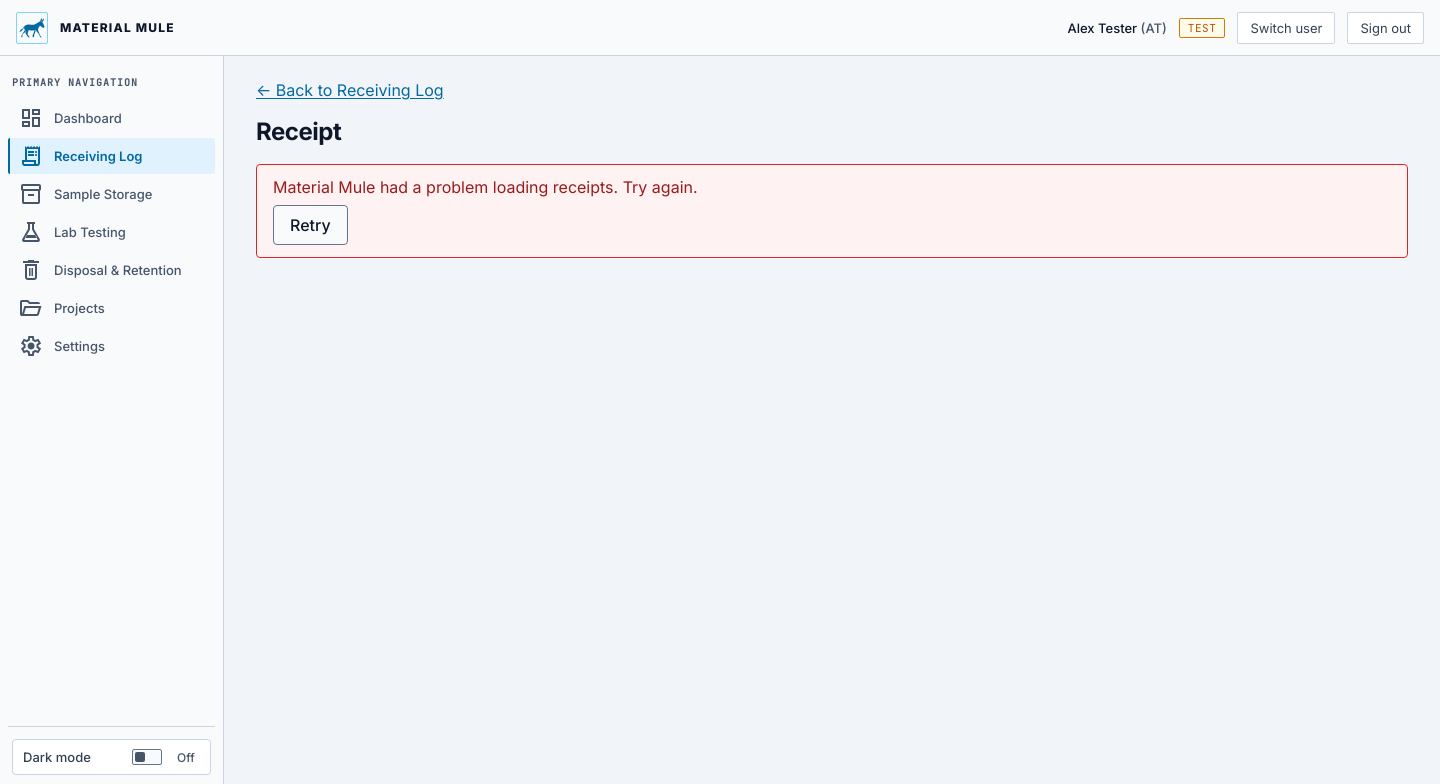
Receipt detail (MM-T51) › a server error offers Retry
Check: the message "Material Mule had a problem loading receipts. Try again. Retry" is shown, box [256,164,1408,258]
Click the button "Retry".
click(310, 225)  # box [273,205,348,245]
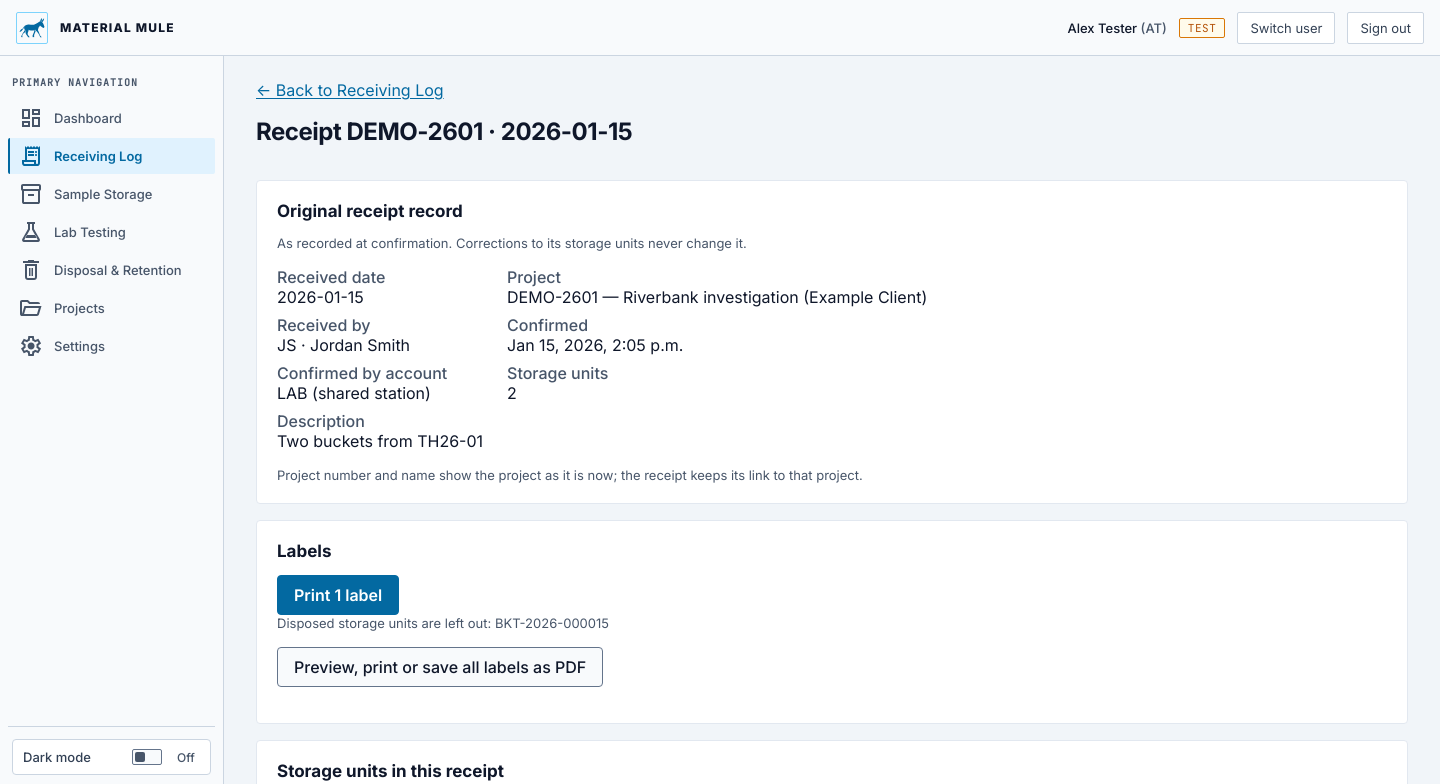
Check: the heading "Original receipt record" is shown, box [277,201,463,221]
